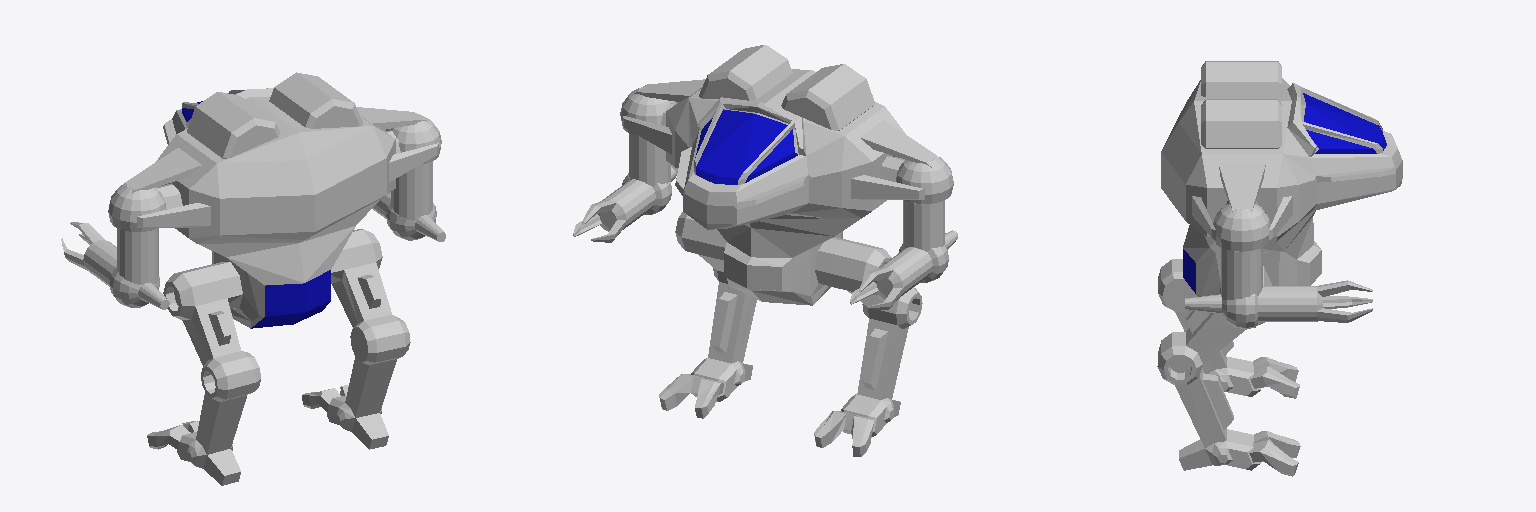
File: main_char.obj
3 renders of one model, left to right at view 1: azimuth 30°, elevation 25°; view 2: azimuth 150°, elevation 25°; view 3: azimuth 270°, elevation 25°, orthographic.
Parts seen in each view (by area): view 1: Cube; view 2: Cube; view 3: Cube.
Boxes of the visible parts, x1,y1,x2,y2 form: Cube: [61, 72, 445, 485]; Cube: [573, 45, 957, 456]; Cube: [1157, 61, 1402, 476].
Size of the model in its own units: 3.96 by 4.05 by 2.58.